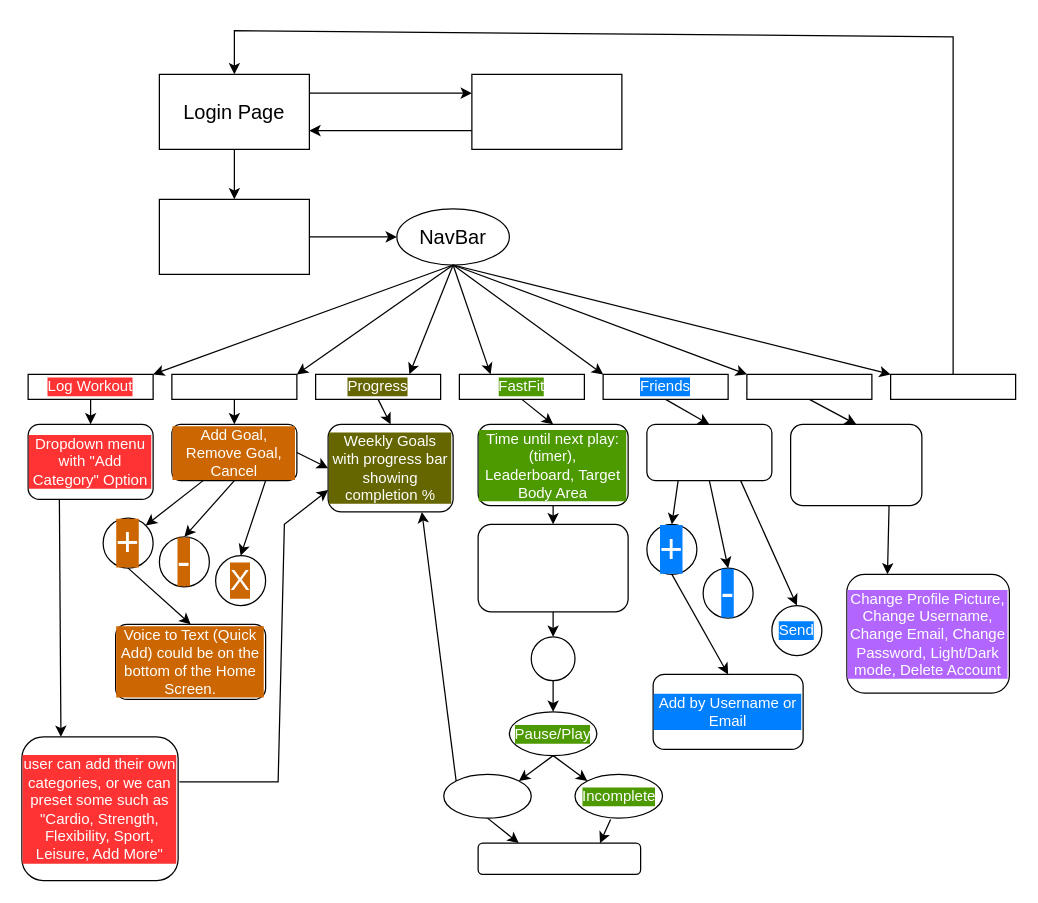
Some shapes in this 1038 by 903 pixel diagram are drawn without their labels. The centre of each missing label's shape, as x and y in pixels:
Add Friend, Remove Friend, Message Friend: the point at 709,452
Back to Home: the point at 559,858
Complete: the point at 486,795
Goals: the point at 234,386
Home Page: the point at 233,236
Log Out: the point at 952,386
Settings: the point at 809,386
Sign Up Page: the point at 546,111
Start: the point at 552,658
Upper Body, Lower Body, Arms, Legs, Back, Core, Full-Body, Cardio: the point at 552,567
User Profile, Preferences, Updates, Delete Account: the point at 855,464
